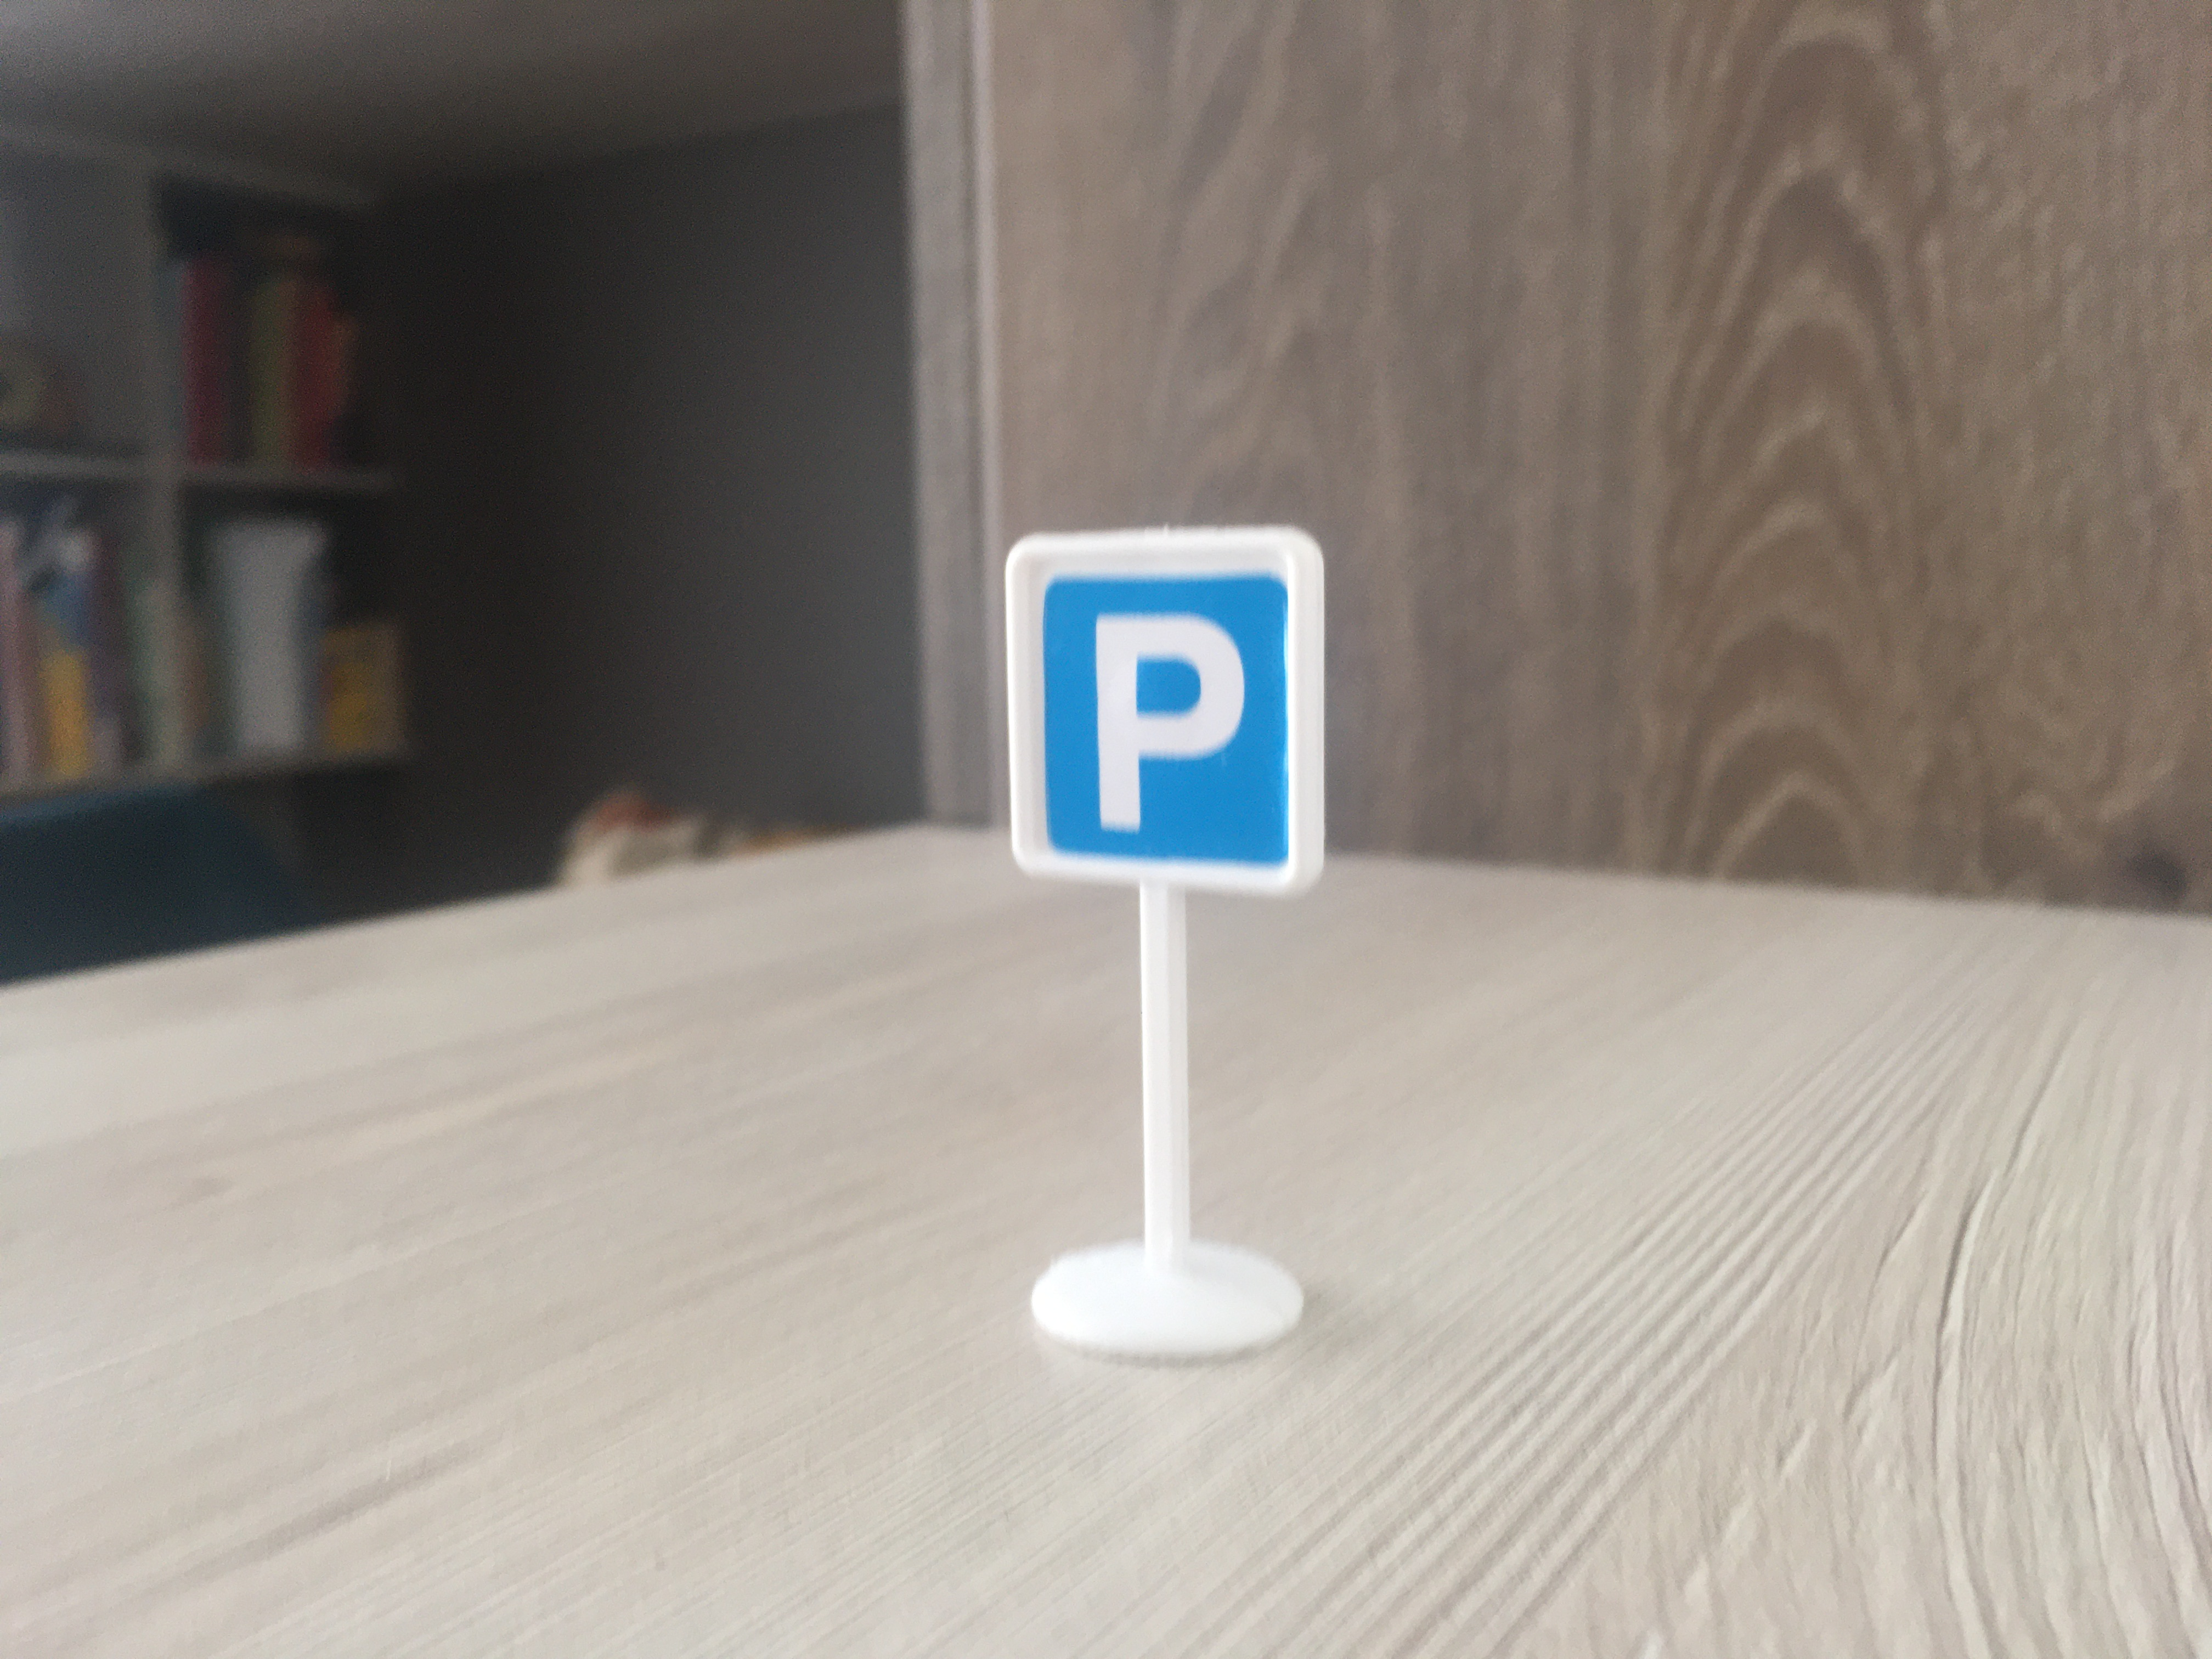parking: (995, 526, 1329, 910)
